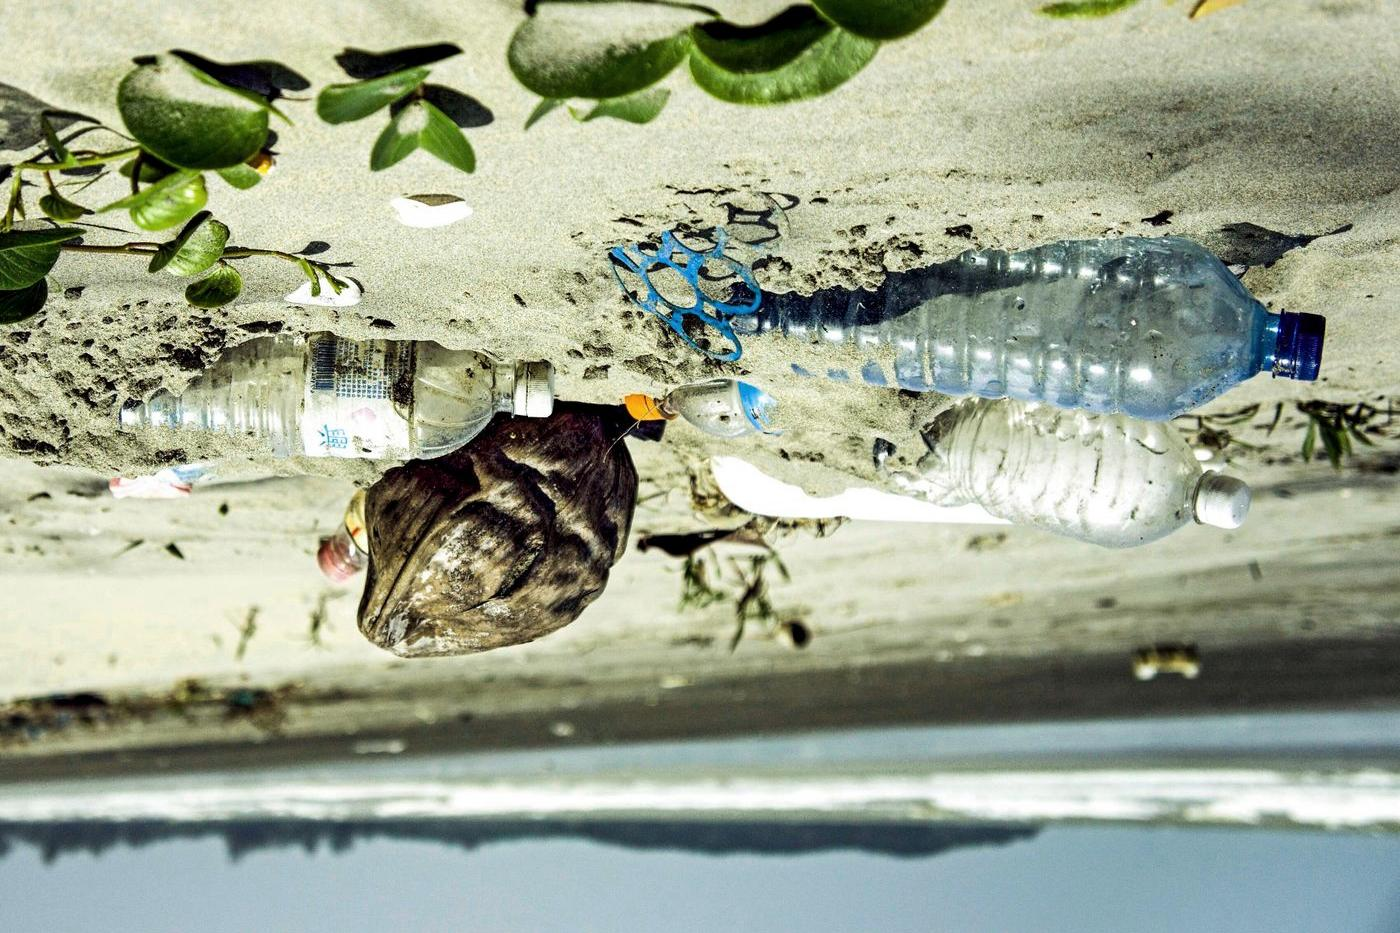Plastic: (703, 259, 1347, 433), (738, 394, 1265, 561), (82, 339, 553, 469)
